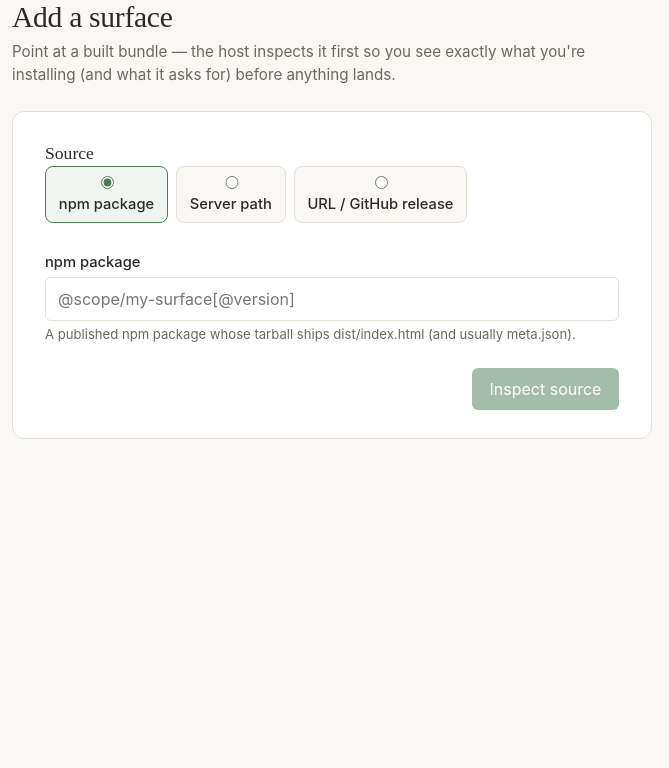
Test case: Add — inspect step › a backed surface shows the trust card BEFORE install
The image size is (669, 768).
Step 1. Type "backed-pkg" into the field with placeholder "@scope/my-surface[@version]" → (332, 299), box [45, 277, 619, 321]
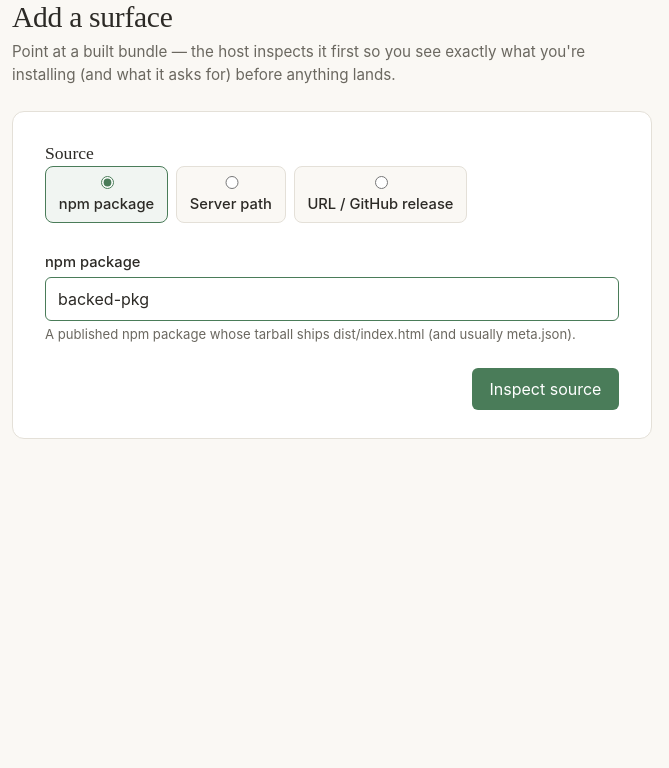
Step 2. Click the button "Inspect source" → (545, 389), box [472, 368, 619, 410]
(page scrolled)
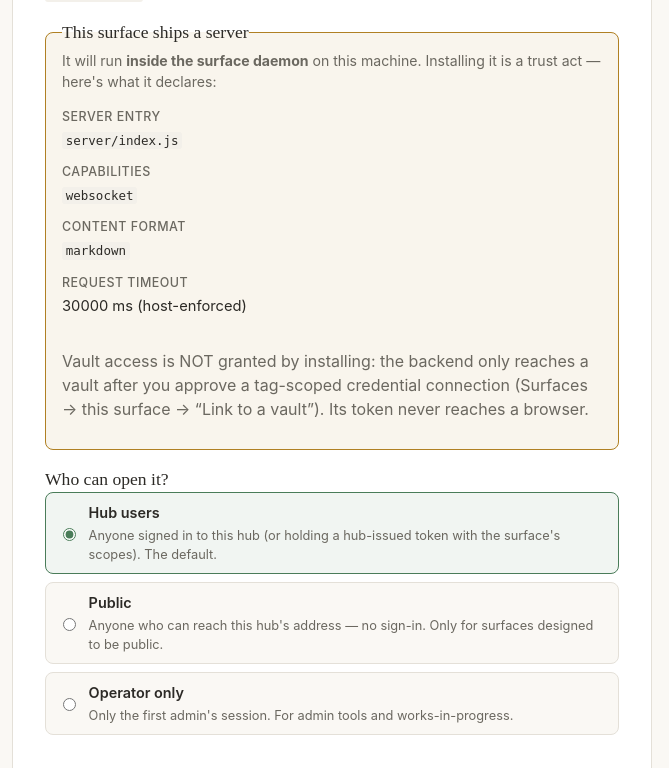
Check: the text "This surface ships a server" is shown, box [62, 19, 249, 46]
Check: the text "server/index.js" is shown, box [62, 132, 182, 149]
Check: the text "websocket" is shown, box [62, 187, 137, 204]
